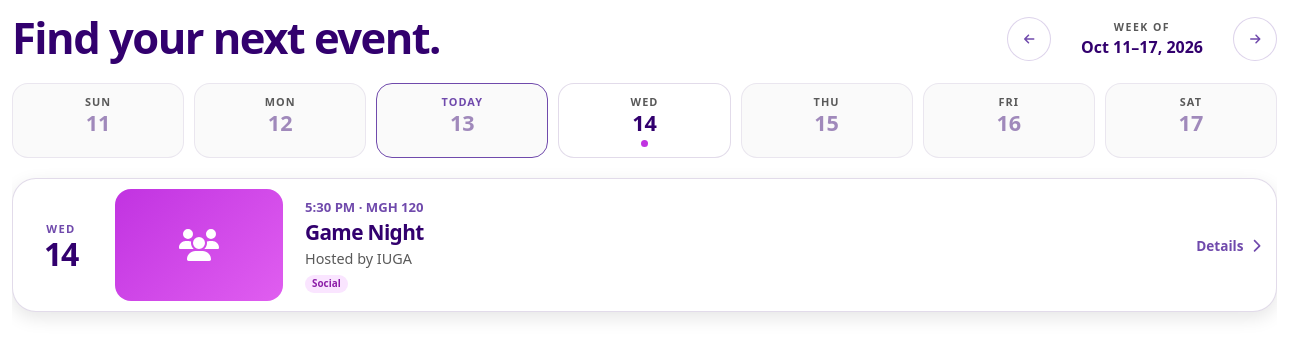
it: EventAgenda › week navigation moves one week at a time
This screenshot has width=1292, height=337.
Click the button named "Next week": (1255, 39) [1233, 17, 1277, 61]
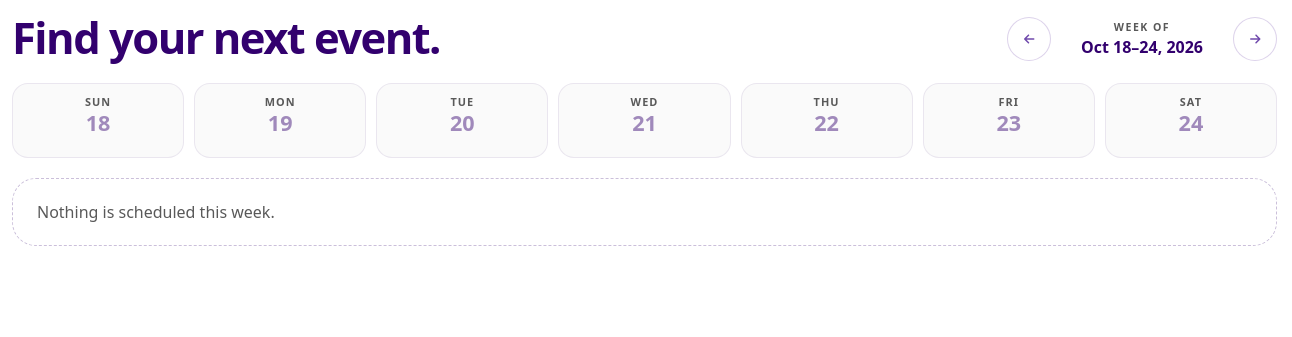
Check: the text "Oct 18–24, 2026" is shown, box [1081, 36, 1203, 58]
Click the button named "Previous week": (1029, 39) [1007, 17, 1051, 61]
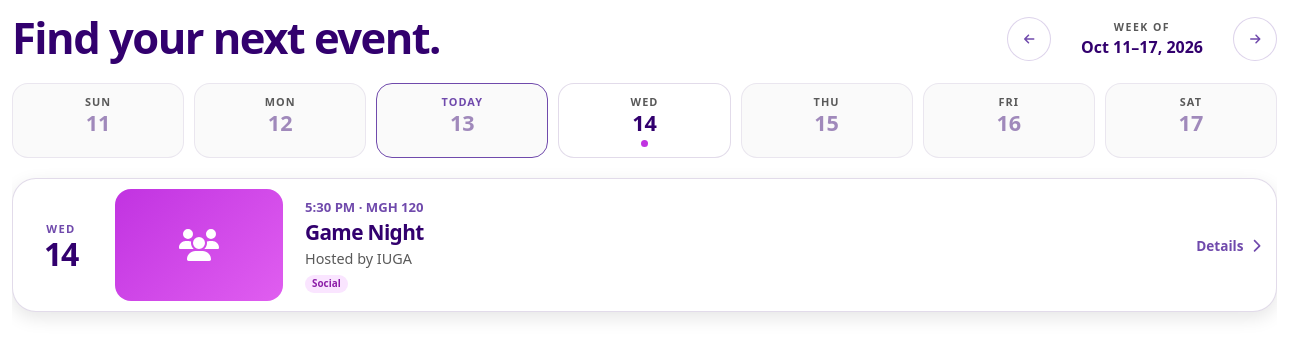
Check: the text "Oct 11–17, 2026" is shown, box [1081, 36, 1203, 58]
